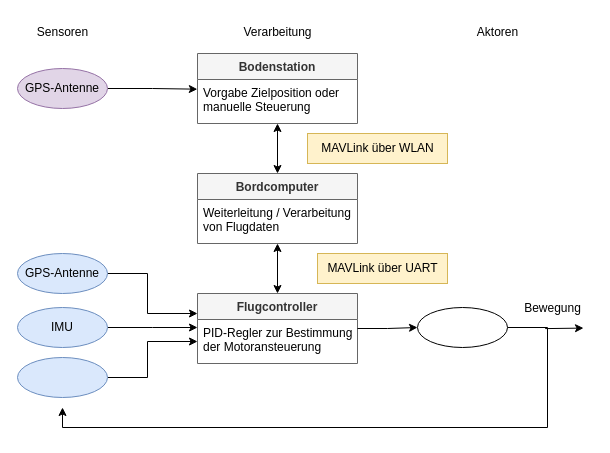
Some shapes in this 610 by 453 pixel diagram are drawn without their labels. The shapes that lost their labels are listed below. From the top down, each one's centre as x and y in pixels, then its label:
At (462,327): "Motoren".
At (62,377): "Barometer".
